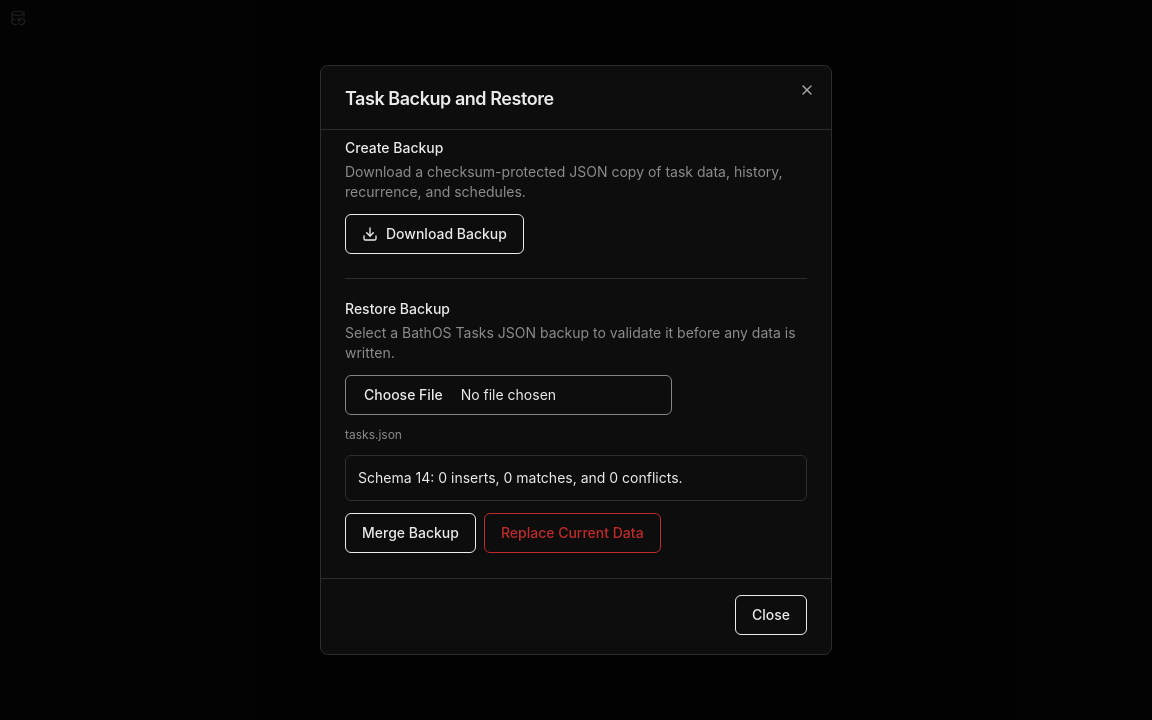
Scenario: TaskDataPortabilityDialog › requires a downloaded pre-restore backup and exact separate confirmation
Earlier steps of the test are not shown.
Later steps or results of the test are not shown.
Expected: the text "Schema 14: 0 inserts, 0 matches, and 0 conflicts." is shown, x1=358 y1=469 x2=683 y2=486
Click the button "Replace Current Data".
click(572, 533)  # box x1=484 y1=513 x2=661 y2=553
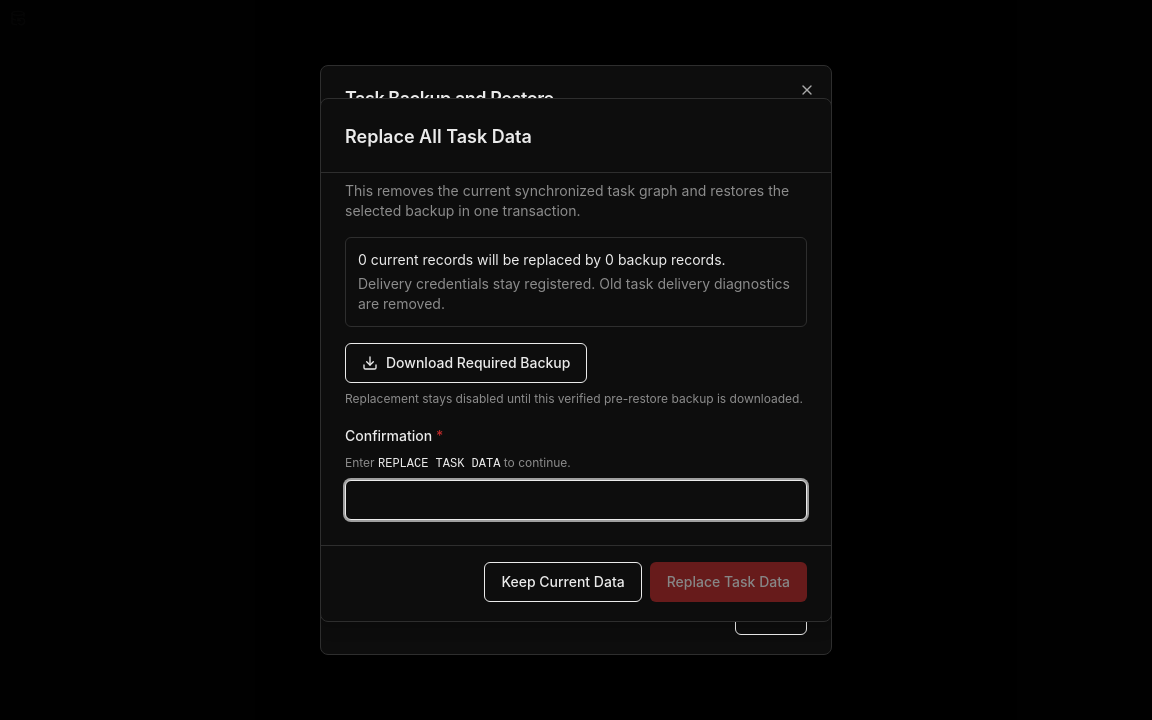
Expected: the heading "Replace All Task Data" is shown, x1=345 y1=126 x2=532 y2=147
Expected: the button "Replace Task Data" is disabled, x1=650 y1=562 x2=807 y2=602
Click the button "Download Required Backup".
click(466, 363)  # box x1=345 y1=343 x2=587 y2=383
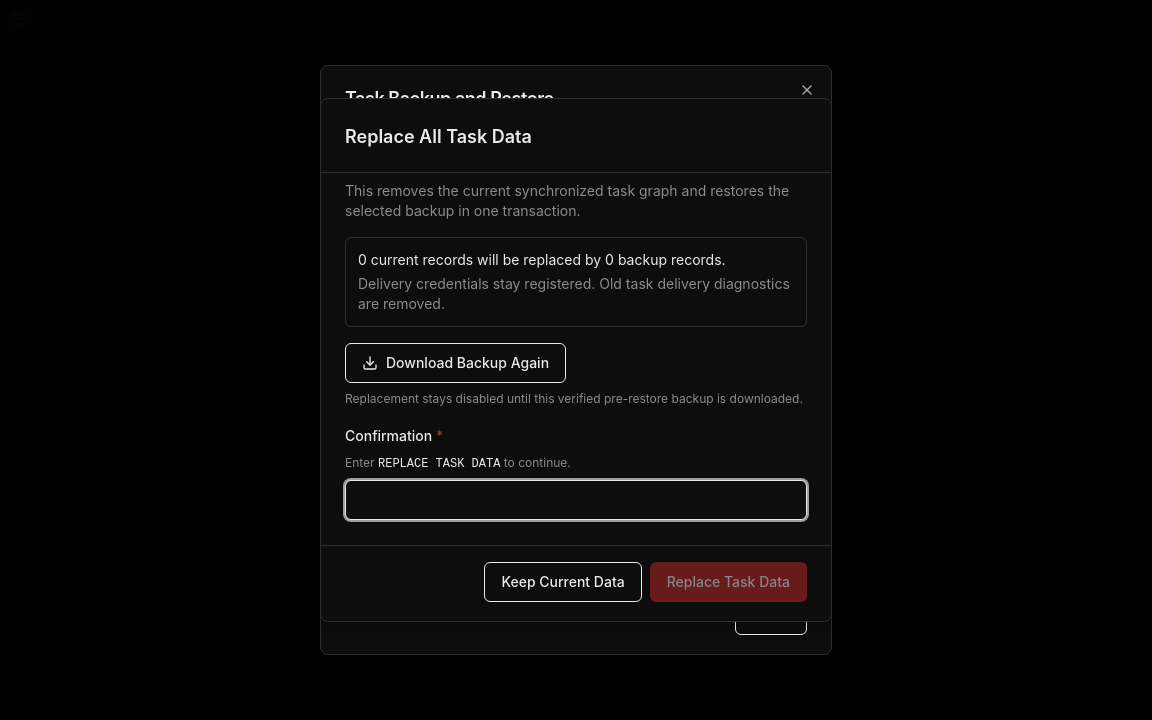
Expected: the button "Replace Task Data" is disabled, x1=650 y1=562 x2=807 y2=602
Type "REPLACE TASK DATA" into the field labelled "Confirmation *".
click(576, 500); type("REPLACE TASK DATA")  # box x1=345 y1=480 x2=807 y2=520
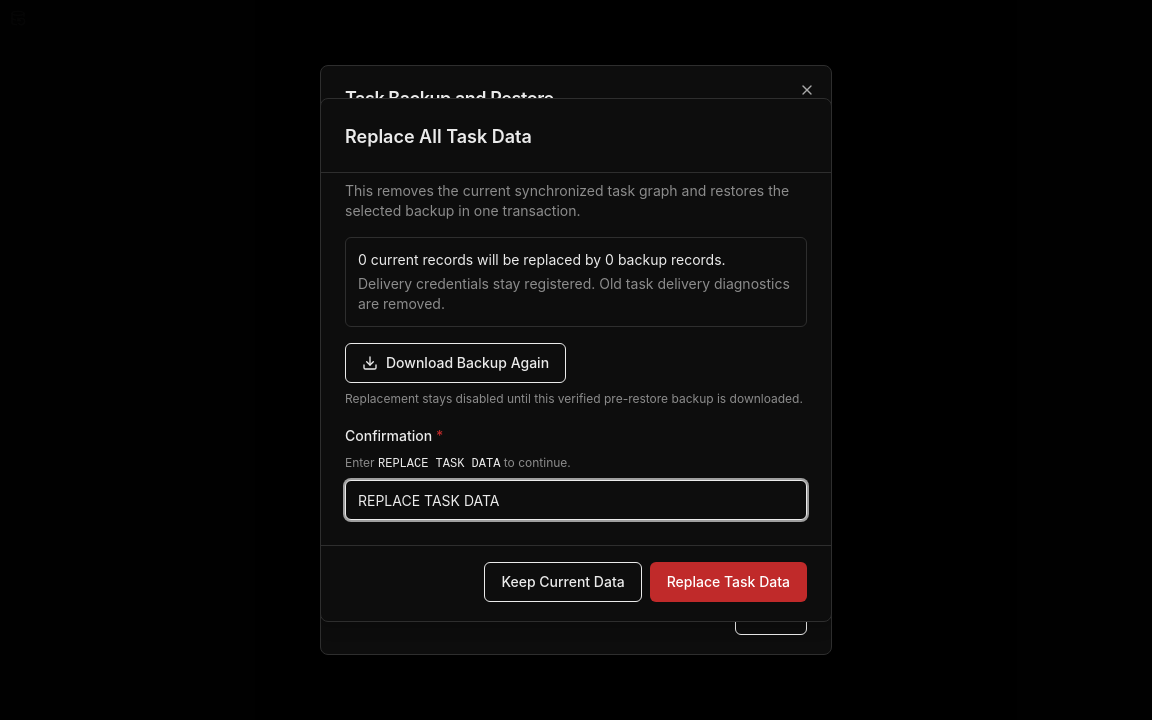
Expected: the button "Replace Task Data" is enabled, x1=650 y1=562 x2=807 y2=602
